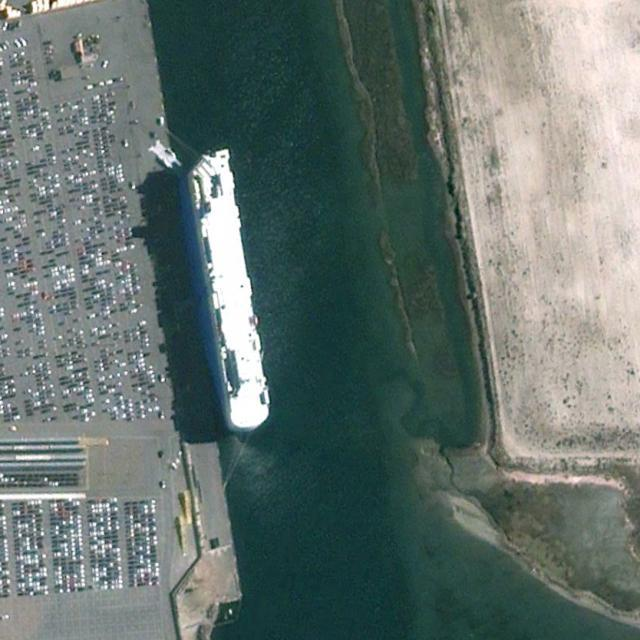RoRo: (183, 146, 273, 436)
